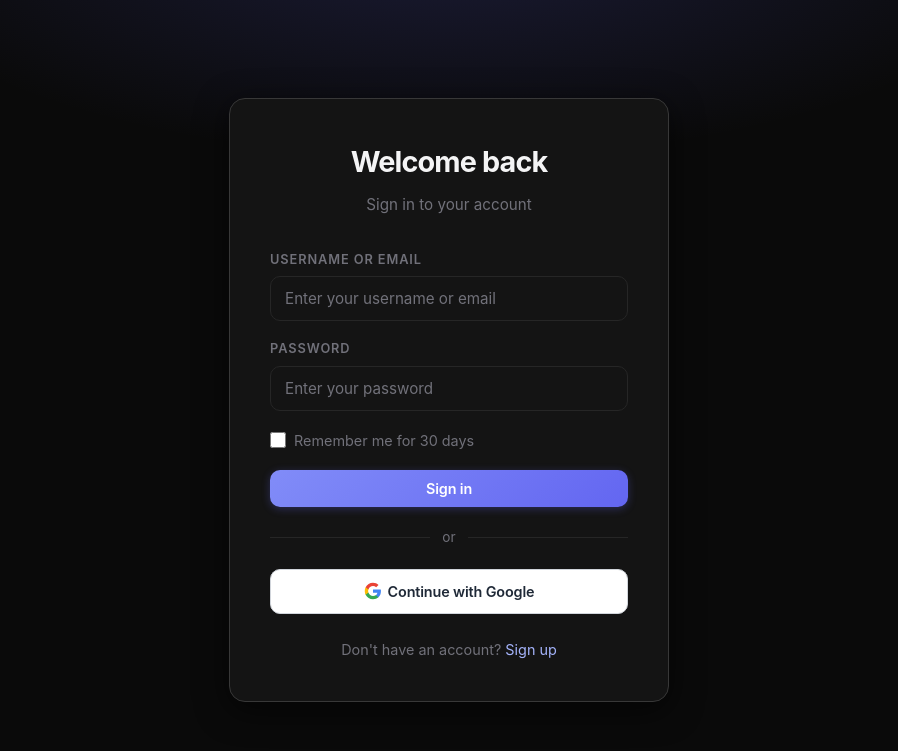
Test case: LoginPage › Error handling › shows "Invalid credentials" from server on wrong password — not "No refresh token"
Type "testuser" into the field with placeholder "Enter your username or email" at (449, 299), box [270, 276, 628, 321]
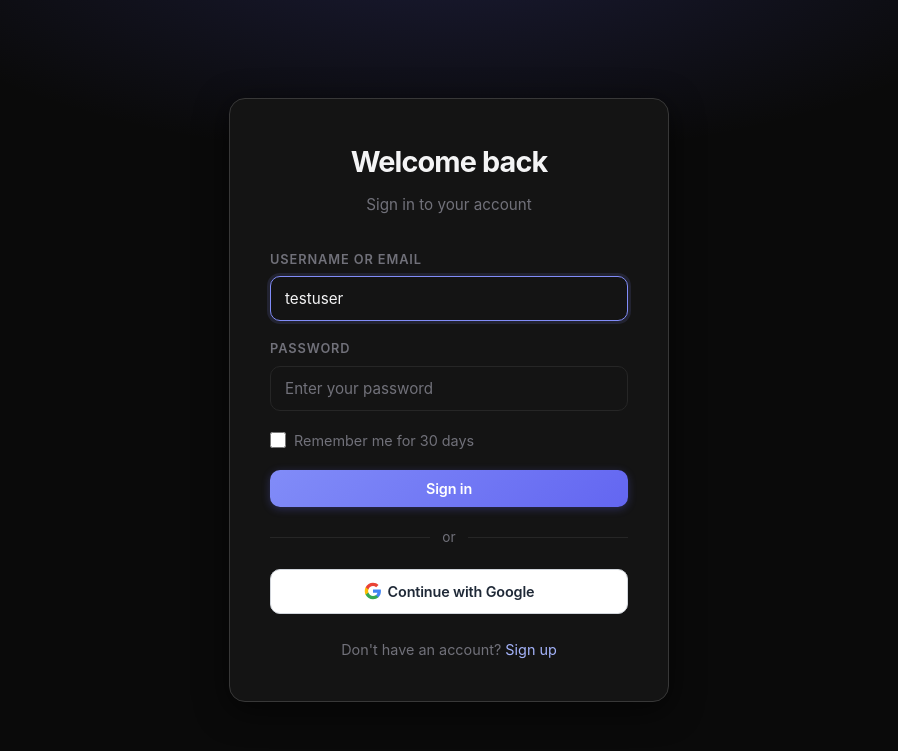
Type "wrongpassword" into the password field with placeholder "Enter your password" at (449, 388), box [270, 366, 628, 411]
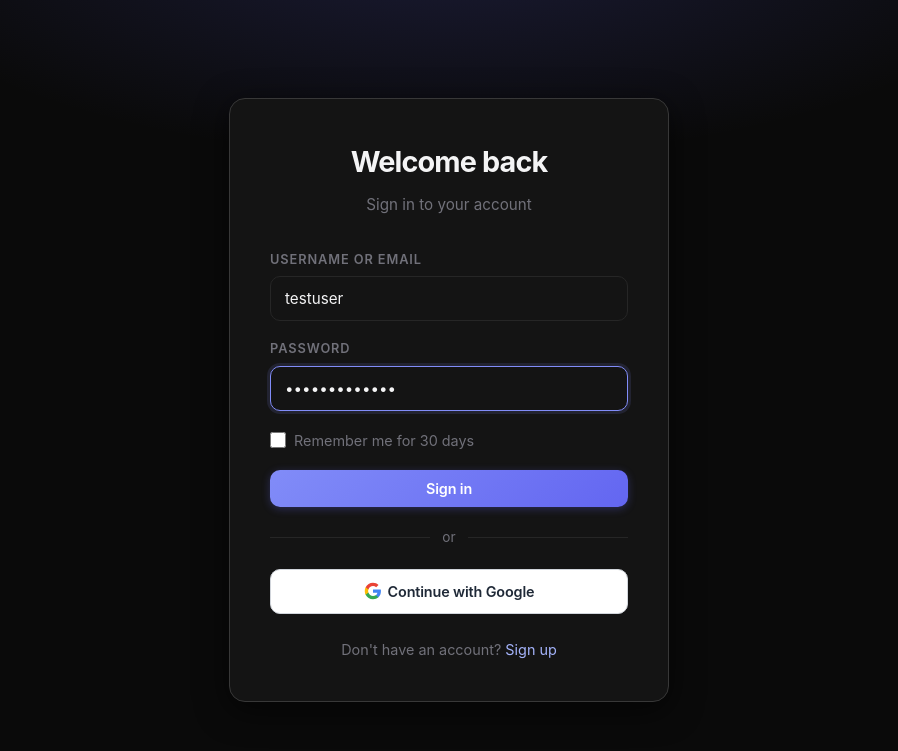
Click the button "Sign in" at (449, 488), box [270, 470, 628, 507]
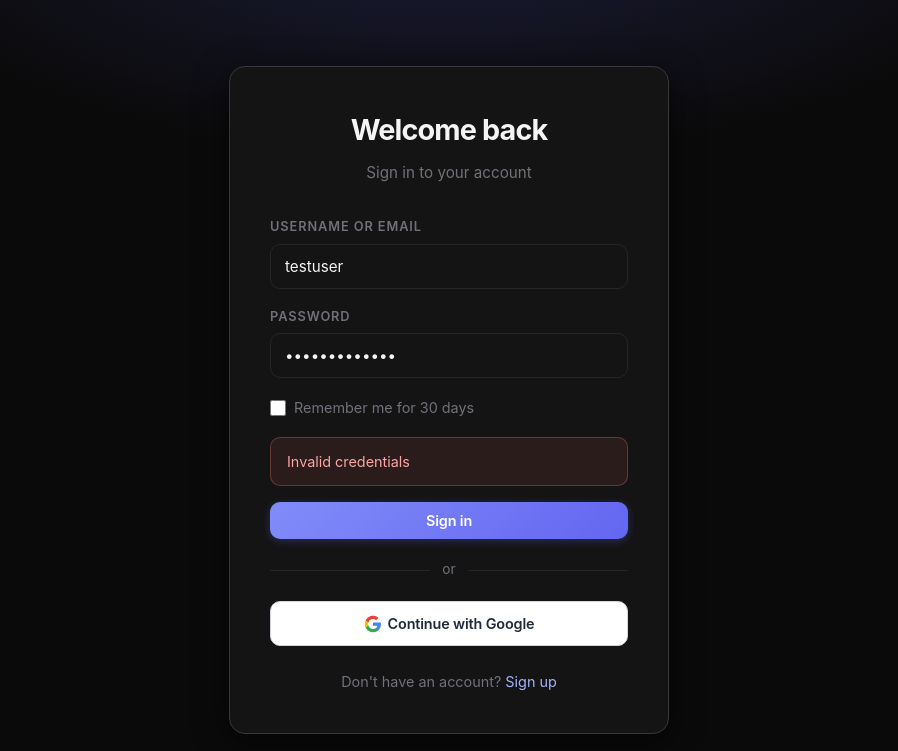
Result: the text "Invalid credentials" is shown at [270, 437, 628, 486]
